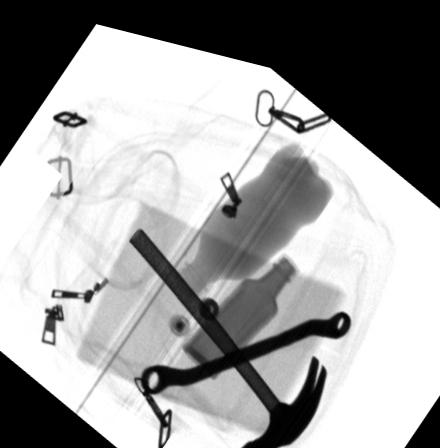Hammer: (126, 219, 326, 448)
Wrench: (141, 293, 352, 387)
